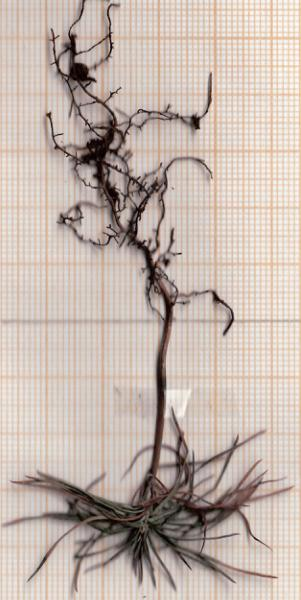flower: (0, 414, 301, 598)
root: (33, 0, 246, 340)
stem: (143, 312, 178, 475)
